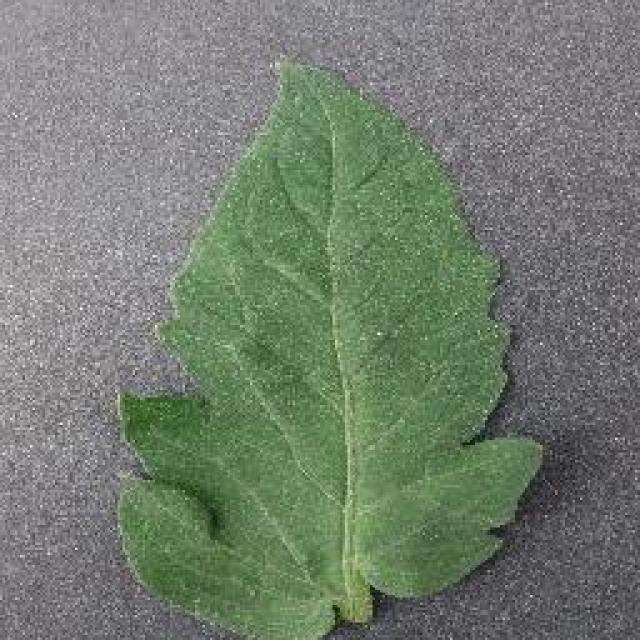healthy: (113, 69, 550, 640)
